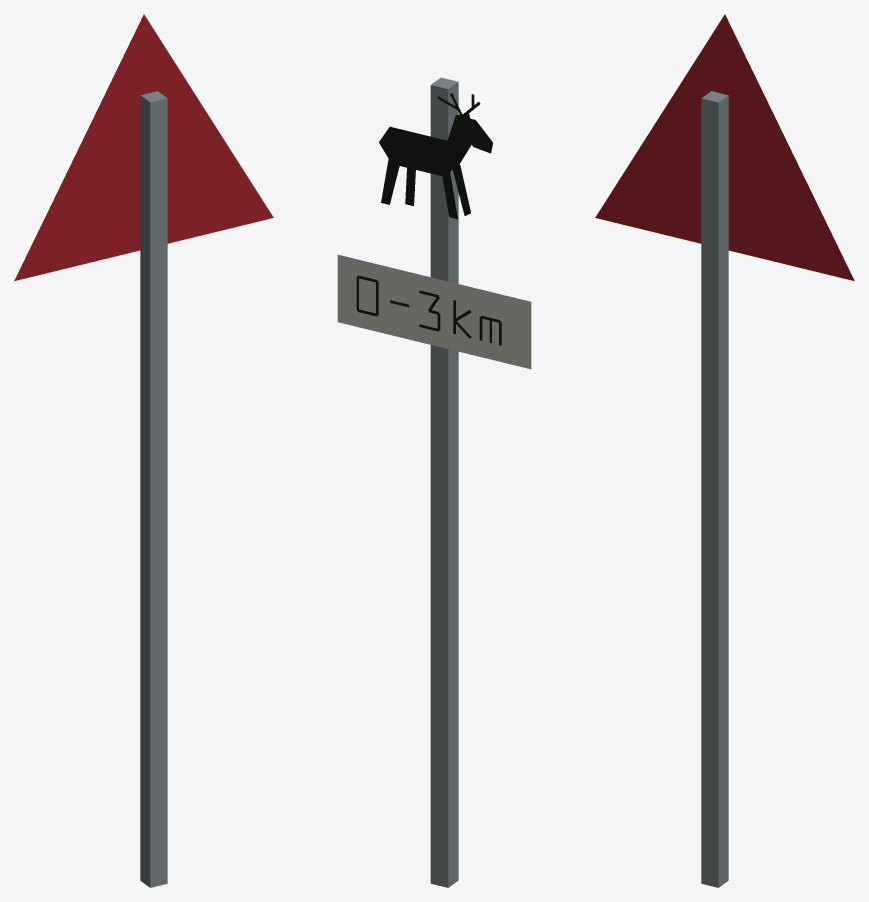
Rendered from sign_rein.glb.
3 renders of one model, left to right at view 1: azimuth 30°, elevation 25°; view 2: azimuth 150°, elevation 25°; view 3: azimuth 330°, elevation 25°, orthographic.
Parts seen in each view (by area): view 1: sign_rein; view 2: sign_rein; view 3: sign_rein.
Part boxes in pixels (x1,y1,x2,y2): sign_rein: (14, 14, 273, 887); sign_rein: (337, 77, 531, 887); sign_rein: (595, 14, 854, 887).
Size of the model in its own units: 0.9001 by 2.85 by 0.096.
